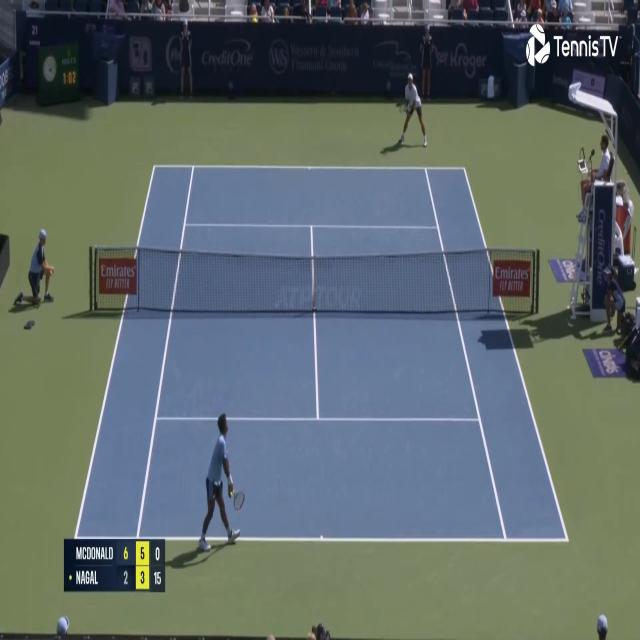tennis-player: (194, 409, 246, 559), (396, 68, 428, 149)
